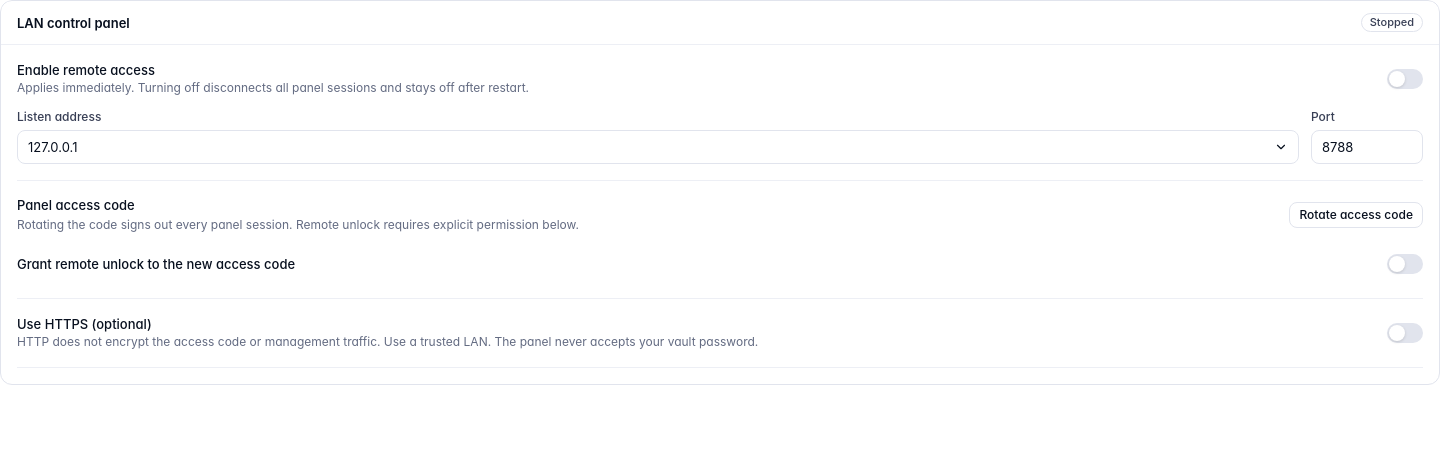
Test: failed enabling restores the switch to the saved disabled state
Click the switch named "Enable remote access" at (1405, 79), box [1387, 69, 1423, 89]
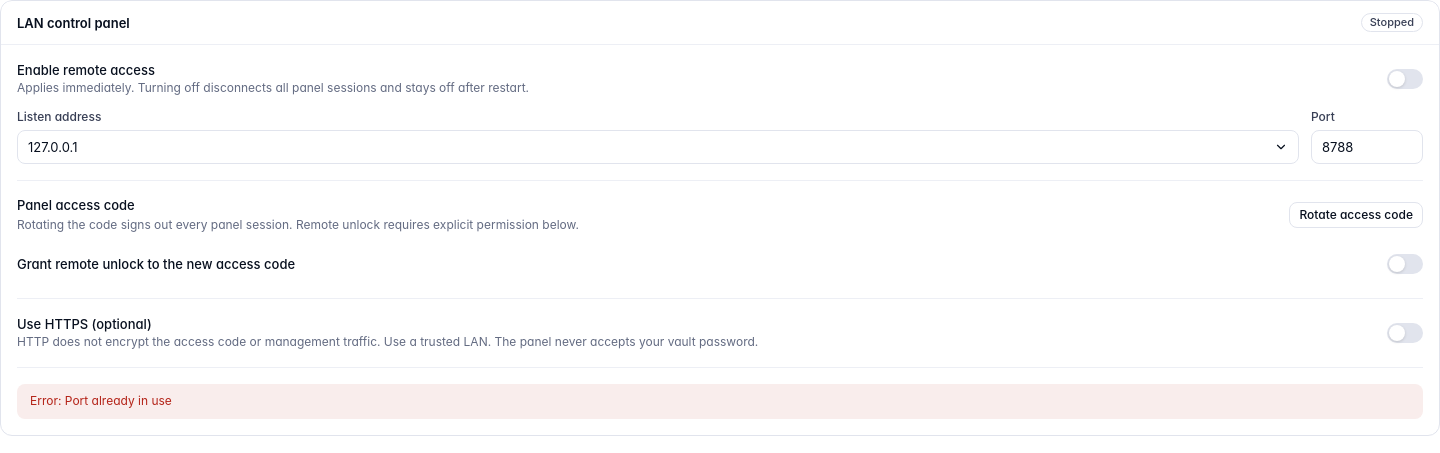
Expected: the message "Error: Port already in use" is shown, [17, 384, 1423, 419]
